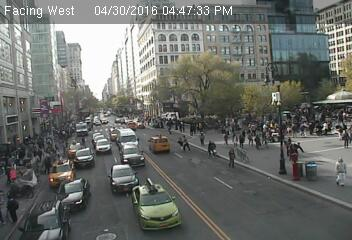neg: (120, 39, 147, 76), (119, 90, 145, 124), (84, 31, 109, 64), (101, 13, 125, 46), (18, 63, 41, 94), (23, 31, 44, 58), (156, 187, 176, 214), (8, 44, 27, 70), (119, 114, 138, 139), (53, 34, 71, 58), (124, 157, 141, 180), (37, 91, 53, 112), (15, 96, 30, 116), (106, 61, 120, 80), (144, 170, 158, 188), (52, 68, 66, 86), (39, 63, 53, 81), (151, 68, 164, 85), (6, 27, 18, 42), (68, 93, 80, 108), (67, 22, 78, 37), (85, 97, 96, 112), (102, 96, 113, 111), (58, 98, 69, 112), (84, 76, 94, 89), (164, 37, 173, 49), (119, 94, 128, 105), (9, 116, 14, 124)
pos: (1, 191, 24, 222), (332, 156, 351, 183), (224, 147, 241, 169), (202, 137, 218, 158), (180, 134, 194, 153), (251, 132, 263, 149), (77, 134, 89, 151), (195, 133, 207, 148), (238, 129, 249, 144), (342, 130, 351, 146), (299, 122, 309, 135), (218, 129, 228, 142), (230, 131, 240, 144)
